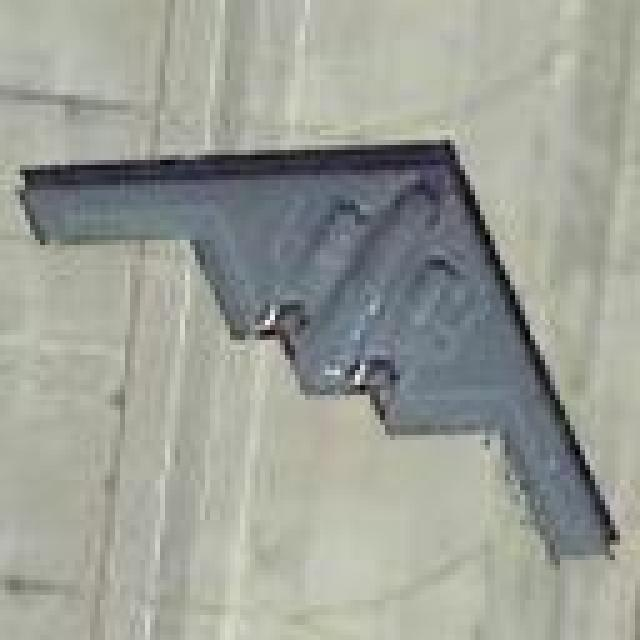B-2_TopDown: (10, 130, 620, 565)
